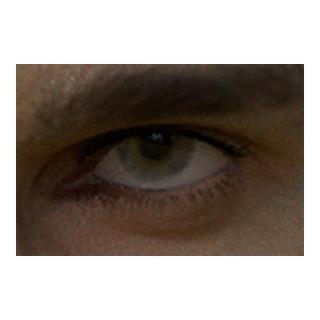pupil: (140, 129, 170, 159)
